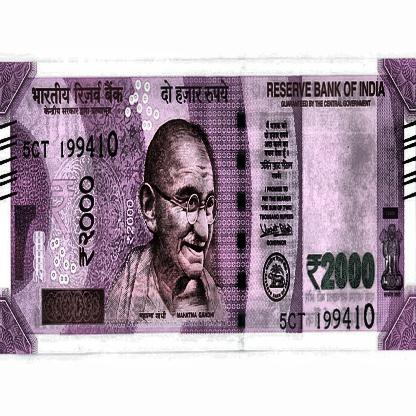Rs2000: (304, 243, 379, 303)
